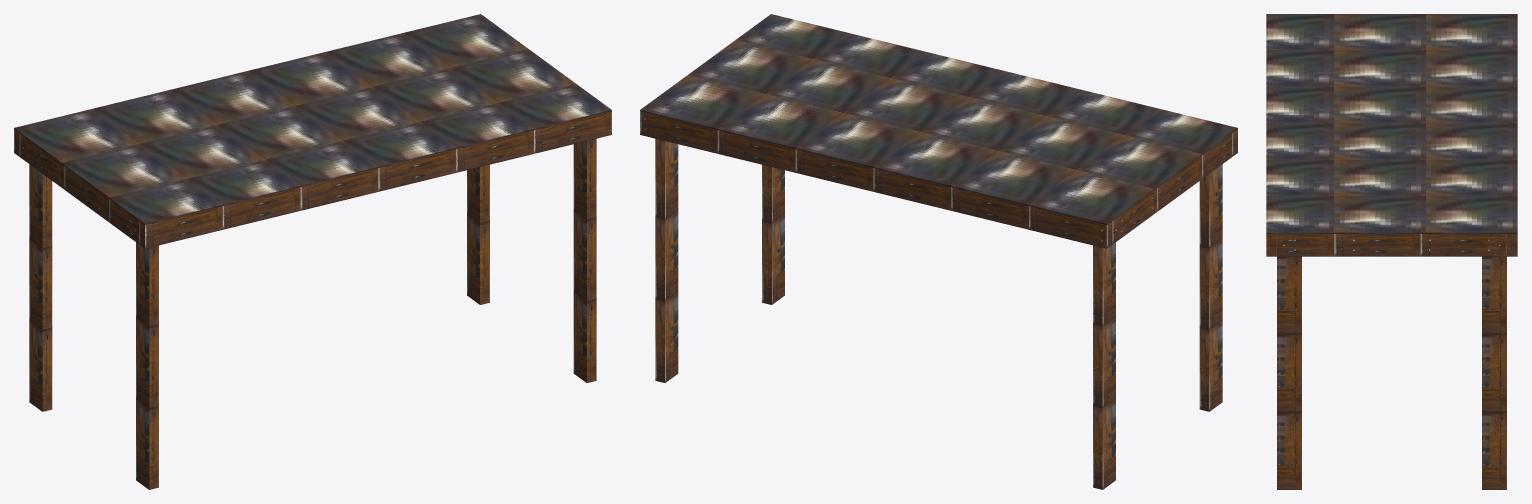
3 renders of one model, left to right at view 1: azimuth 30°, elevation 25°; view 2: azimuth 150°, elevation 25°; view 3: azimuth 270°, elevation 25°, orthographic. The views are drawn at different scales.
Visible parts, largest first — view 1: mesh49_mesh49-geometry, mesh9_mesh9-geometry, mesh17_mesh17-geometry, mesh13_mesh13-geometry, mesh15_mesh15-geometry, mesh19_mesh19-geometry, mesh11_mesh11-geometry; view 2: mesh49_mesh49-geometry, mesh5_mesh5-geometry, mesh19_mesh19-geometry, mesh15_mesh15-geometry, mesh13_mesh13-geometry, mesh17_mesh17-geometry, mesh11_mesh11-geometry; view 3: mesh49_mesh49-geometry, mesh17_mesh17-geometry, mesh19_mesh19-geometry, mesh7_mesh7-geometry.
Boxes of the visible parts, x1=… form: mesh49_mesh49-geometry: x1=14, y1=14, x2=611, y2=224; mesh9_mesh9-geometry: x1=139, y1=111, x2=611, y2=248; mesh17_mesh17-geometry: x1=573, y1=138, x2=596, y2=382; mesh13_mesh13-geometry: x1=29, y1=164, x2=52, y2=411; mesh15_mesh15-geometry: x1=136, y1=242, x2=158, y2=489; mesh19_mesh19-geometry: x1=467, y1=164, x2=489, y2=304; mesh11_mesh11-geometry: x1=19, y1=133, x2=139, y2=243; mesh49_mesh49-geometry: x1=640, y1=14, x2=1237, y2=224; mesh5_mesh5-geometry: x1=640, y1=111, x2=1112, y2=248; mesh19_mesh19-geometry: x1=655, y1=138, x2=678, y2=382; mesh15_mesh15-geometry: x1=1199, y1=164, x2=1222, y2=411; mesh13_mesh13-geometry: x1=1093, y1=242, x2=1115, y2=489; mesh17_mesh17-geometry: x1=762, y1=164, x2=784, y2=304; mesh11_mesh11-geometry: x1=1112, y1=133, x2=1232, y2=243; mesh49_mesh49-geometry: x1=1266, y1=14, x2=1517, y2=233; mesh17_mesh17-geometry: x1=1277, y1=256, x2=1301, y2=489; mesh19_mesh19-geometry: x1=1482, y1=256, x2=1506, y2=489; mesh7_mesh7-geometry: x1=1277, y1=234, x2=1506, y2=256.
Bounding box in the file's own units: 0.8038 × 0.4486 × 0.3907.
